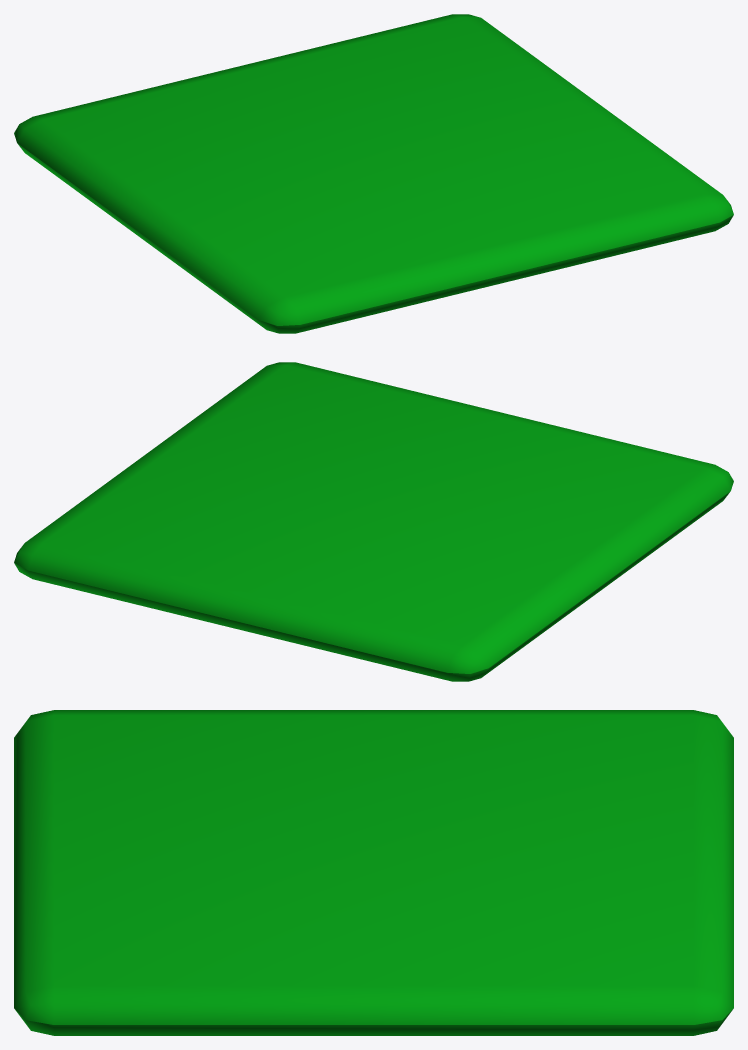
The model's file is SM_Moss.fbx.
3 views of the same model, one above another, from view 1: azimuth 30°, elevation 25°; view 2: azimuth 150°, elevation 25°; view 3: azimuth 270°, elevation 25° (orthographic). The views are drawn at different scales.
Visible parts, largest first — view 1: SM_Moss; view 2: SM_Moss; view 3: SM_Moss.
Part boxes in pixels (box(x1,y1,x2,y2)): SM_Moss: box(14, 14, 733, 333); SM_Moss: box(14, 362, 733, 681); SM_Moss: box(14, 710, 733, 1035).
Bounding box in the file's own units: 104 × 7.1 × 104.
